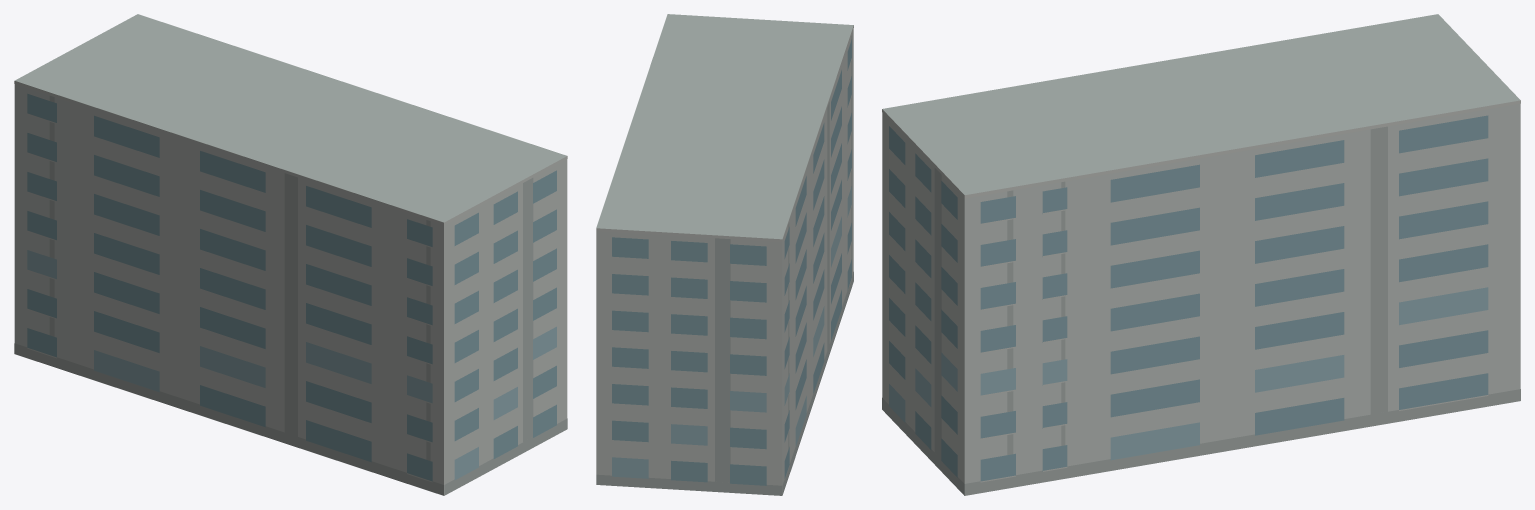
Rendered from residential-e5a1e216-151b-4079-b756-97aa71ad6109.glb.
3 views of the same model, side by side, from view 1: azimuth 30°, elevation 25°; view 2: azimuth 150°, elevation 25°; view 3: azimuth 270°, elevation 25° (orthographic). The views are drawn at different scales.
Visible parts, largest first — view 1: residential-e5a1e216-151b-4079-b756-97aa71ad6109.tmp; view 2: residential-e5a1e216-151b-4079-b756-97aa71ad6109.tmp; view 3: residential-e5a1e216-151b-4079-b756-97aa71ad6109.tmp.
Boxes of the visible parts, bbox=[...] form: residential-e5a1e216-151b-4079-b756-97aa71ad6109.tmp: bbox=[14, 14, 567, 495]; residential-e5a1e216-151b-4079-b756-97aa71ad6109.tmp: bbox=[596, 14, 853, 495]; residential-e5a1e216-151b-4079-b756-97aa71ad6109.tmp: bbox=[882, 14, 1520, 495].
Size of the model in its own units: 27.61 by 21.35 by 41.11.
